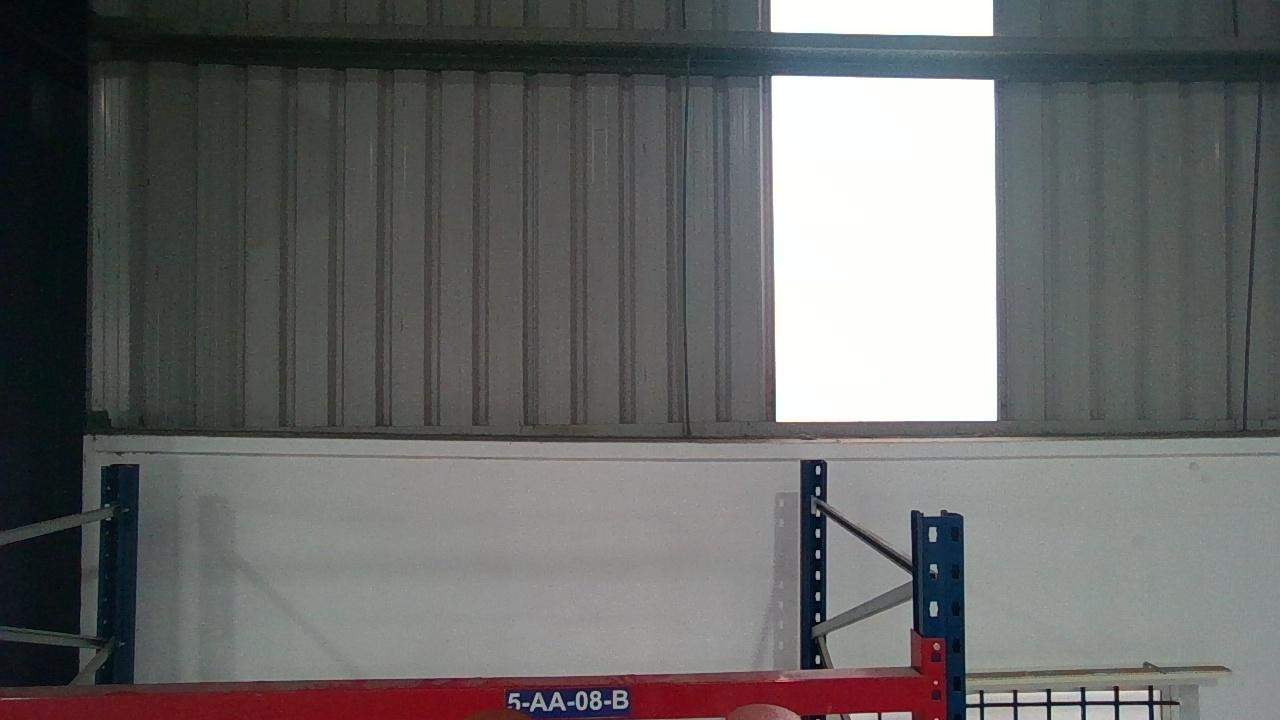h_rack: (22, 676, 924, 718)
